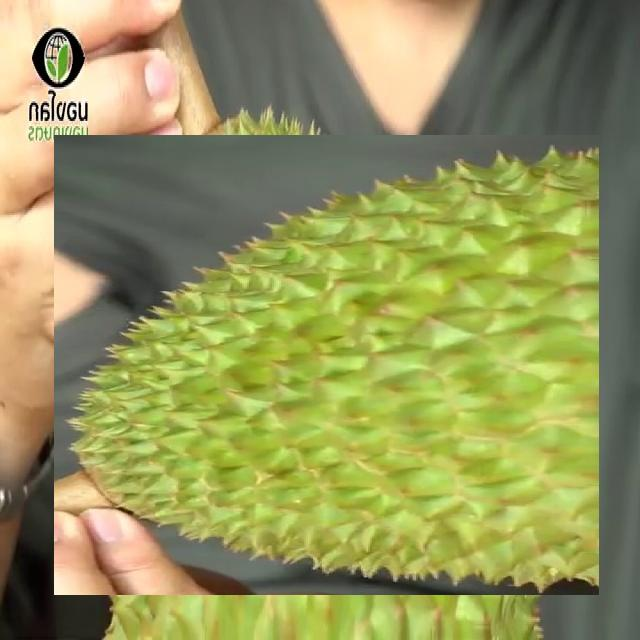durian: (75, 113, 578, 617)
